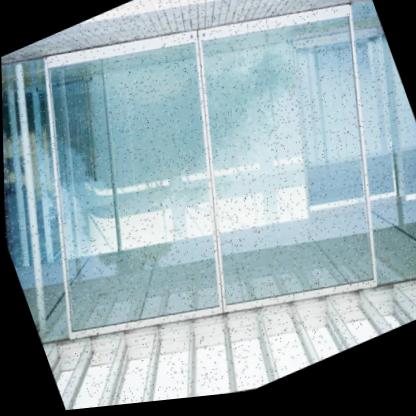Window: (0, 0, 288, 382), (128, 0, 416, 361)
